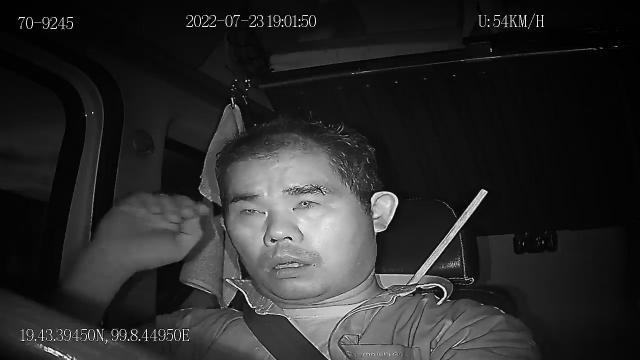SafeDriving: (285, 187, 329, 216), (230, 198, 272, 222)
Seatbelt: (242, 305, 330, 360)
